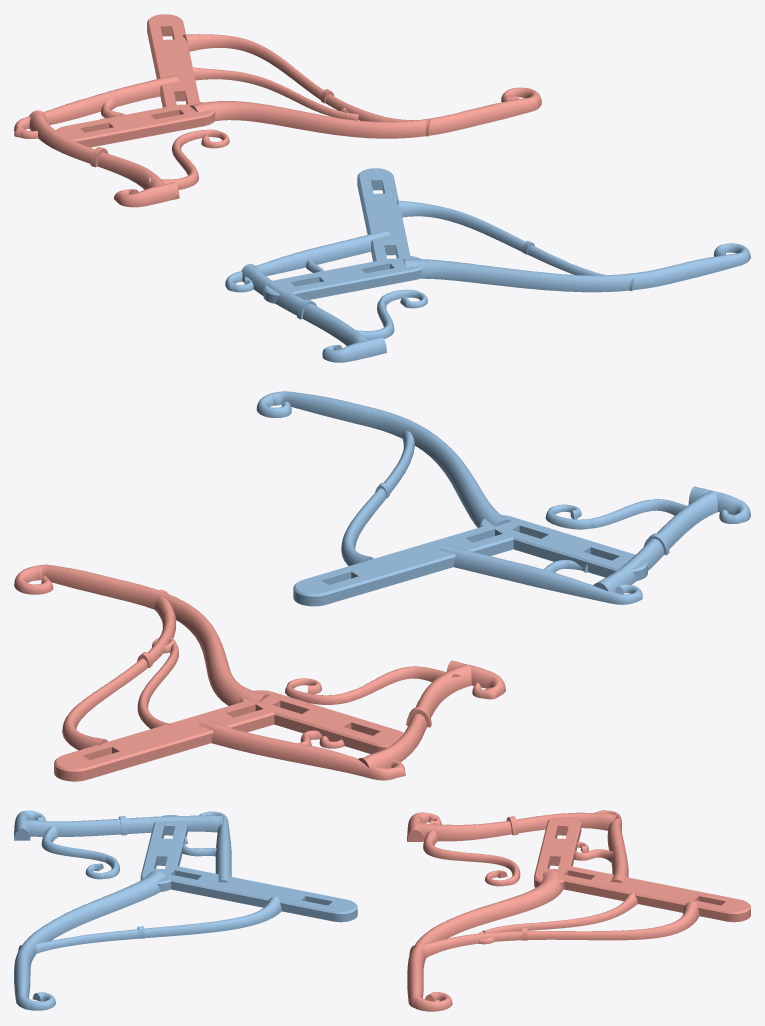
The picture shows the model from 3 angles, top to bottom: view 1: azimuth 30°, elevation 25°; view 2: azimuth 150°, elevation 25°; view 3: azimuth 270°, elevation 25°; orthographic projection. The views are drawn at different scales.
Parts seen in each view (by area): view 1: fianco_b_coup_de_fouet, fianco_a_classica; view 2: fianco_b_coup_de_fouet, fianco_a_classica; view 3: fianco_b_coup_de_fouet, fianco_a_classica.
Boxes of the visible parts, bbox=[...] form: fianco_b_coup_de_fouet: bbox=[14, 14, 541, 207]; fianco_a_classica: bbox=[225, 168, 750, 362]; fianco_b_coup_de_fouet: bbox=[14, 564, 505, 781]; fianco_a_classica: bbox=[256, 391, 750, 606]; fianco_b_coup_de_fouet: bbox=[407, 810, 750, 1011]; fianco_a_classica: bbox=[14, 810, 357, 1010].
Size of the model in its own units: 142 by 4.7 by 225.
